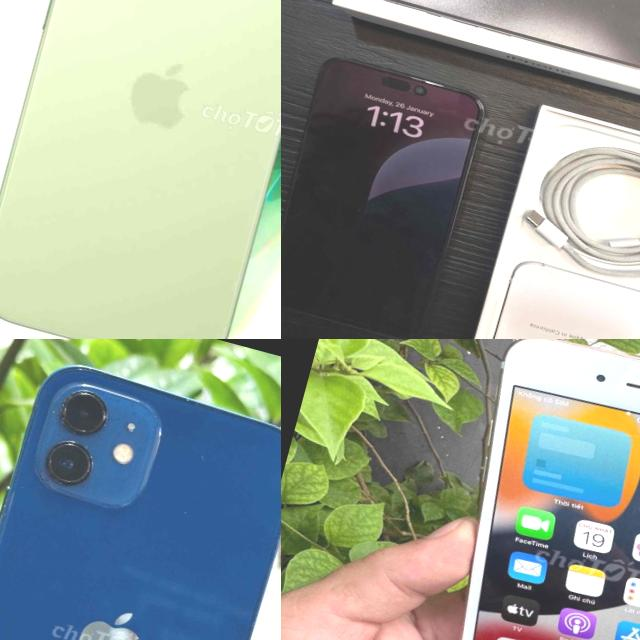gen_12_13: (0, 351, 281, 640)
gen_15: (281, 36, 510, 339)
gen_17: (0, 0, 281, 339)
gen_7_8: (401, 339, 640, 640)
